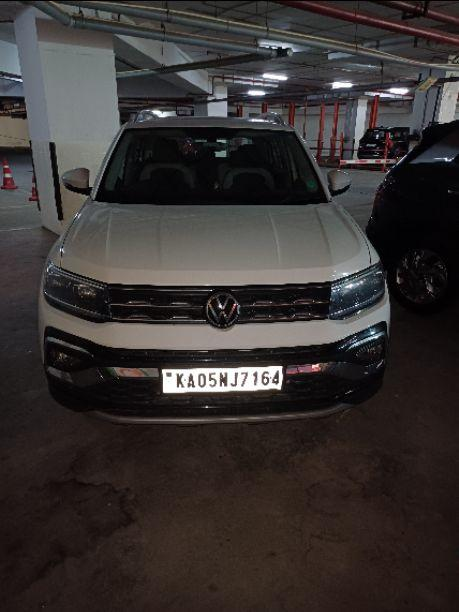license_plate: (159, 364, 284, 394)
